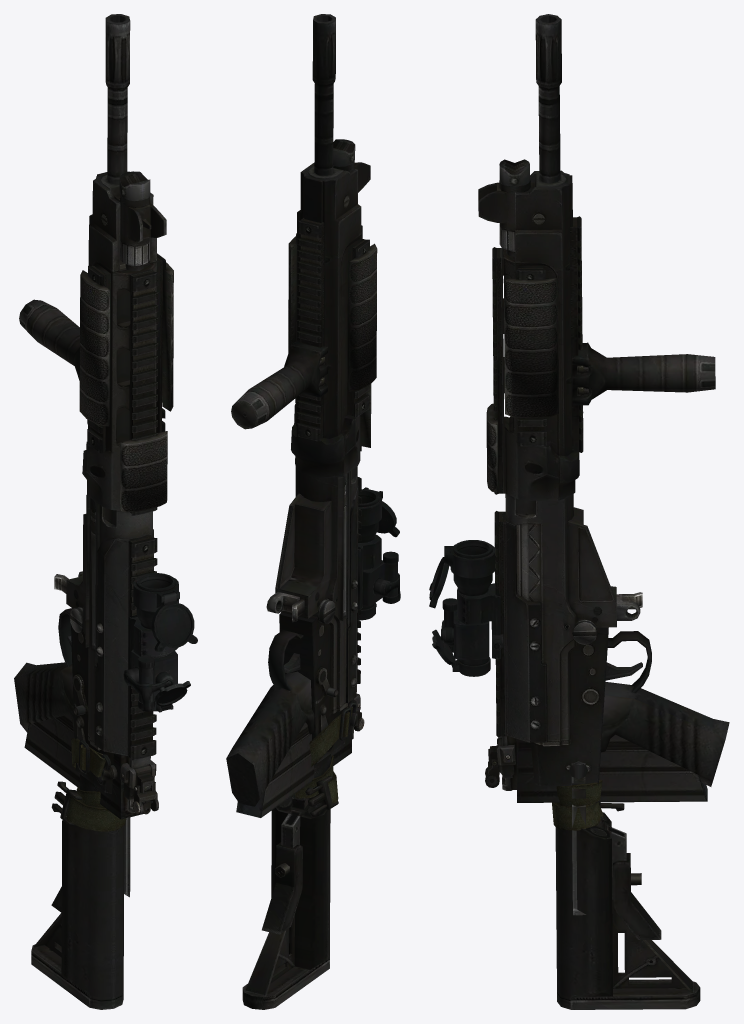
The model's file is SC_2010_7th_Anniversary.obj.
3 renders of one model, left to right at view 1: azimuth 30°, elevation 25°; view 2: azimuth 150°, elevation 25°; view 3: azimuth 270°, elevation 25°, orthographic. The views are drawn at different scales.
Parts seen in each view (by area): view 1: SC-2010, APoint_DotSight, Model_Magazine, Model_Handle; view 2: SC-2010, APoint_DotSight, Model_Magazine; view 3: SC-2010, APoint_DotSight, Model_Magazine, Model_Handle.
Boxes of the visible parts, <box> form: SC-2010: <box>14,14,173,1009</box>; APoint_DotSight: <box>123,573,197,712</box>; Model_Magazine: <box>24,714,146,819</box>; Model_Handle: <box>77,763,130,897</box>; SC-2010: <box>226,14,377,1009</box>; APoint_DotSight: <box>357,487,400,620</box>; Model_Magazine: <box>236,700,351,817</box>; SC-2010: <box>478,14,729,1009</box>; APoint_DotSight: <box>429,540,503,676</box>; Model_Magazine: <box>516,734,707,802</box>; Model_Handle: <box>569,761,587,915</box>.
Bounding box in the file's own units: 0.0744 × 0.8821 × 0.2444.
Materials: 2 (2 with a texture image).
